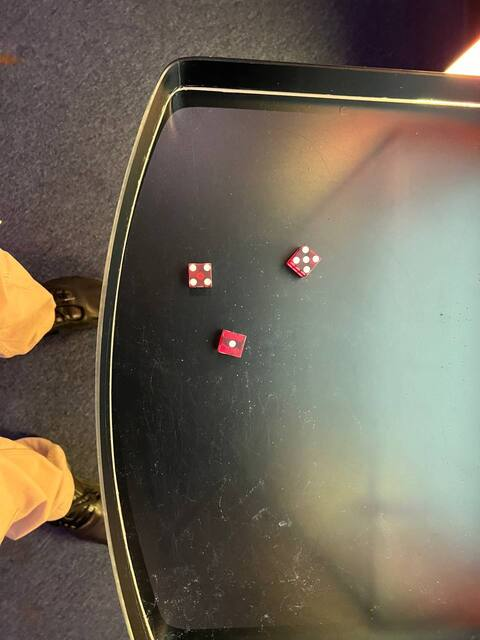five: (288, 242, 324, 275)
four: (183, 257, 216, 292)
one: (213, 327, 252, 359)
